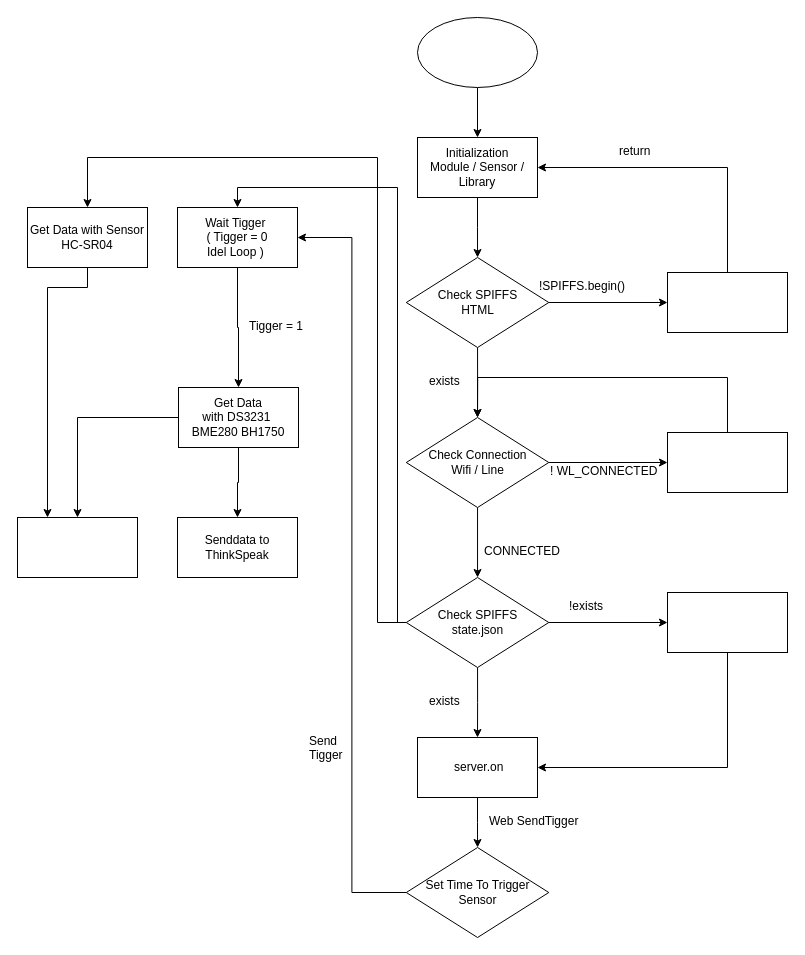
Image size: 805x955. Some labels were removed from this diagram. Here are the shapes that lost their labels. From the top down, the box of each, then its label:
(416, 16, 538, 88): Start
(666, 272, 788, 332): Error has occurred while mounting SPIFFS
(666, 432, 788, 492): Wait Connect
(16, 516, 138, 578): Send Notification To Line
(666, 592, 788, 652): Creating initial state.json
